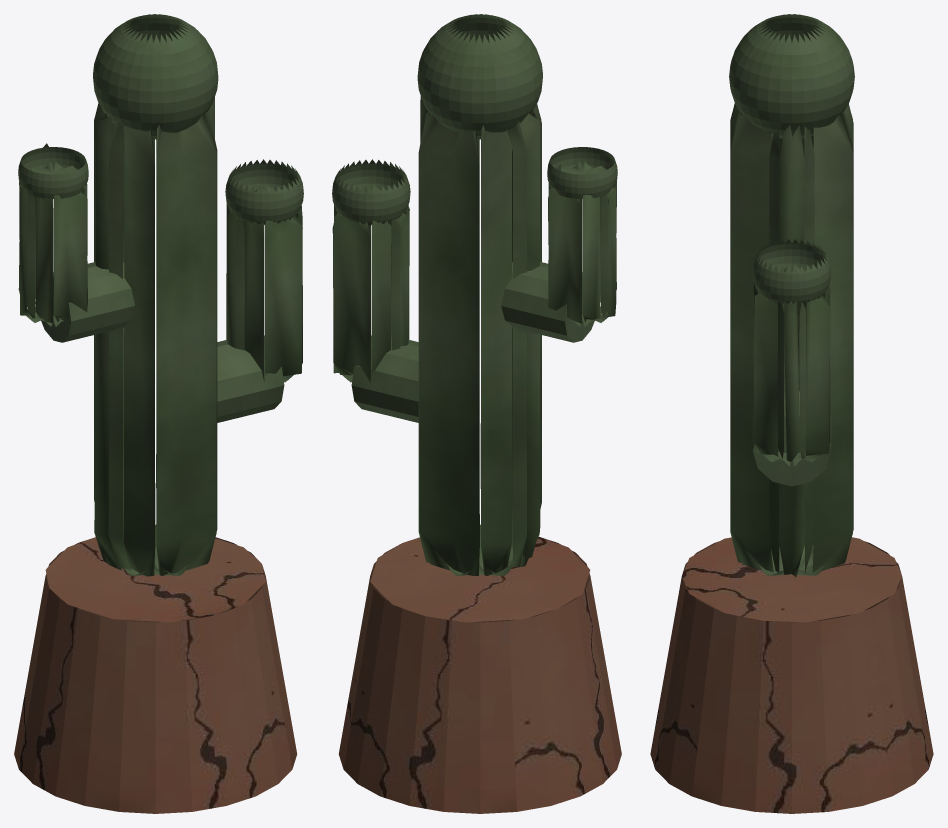
File: NT17_Cactus.glb
The picture shows the model from 3 angles, left to right: view 1: azimuth 30°, elevation 25°; view 2: azimuth 150°, elevation 25°; view 3: azimuth 270°, elevation 25°; orthographic projection.
Parts seen in each view (by area): view 1: NT17_Cactus; view 2: NT17_Cactus; view 3: NT17_Cactus.
Boxes of the visible parts, bbox=[...] form: NT17_Cactus: bbox=[14, 14, 303, 813]; NT17_Cactus: bbox=[332, 14, 621, 813]; NT17_Cactus: bbox=[650, 14, 933, 813].
Size of the model in its own units: 0.4012 by 0.9942 by 0.3495.
Materials: 2 (2 with a texture image).
